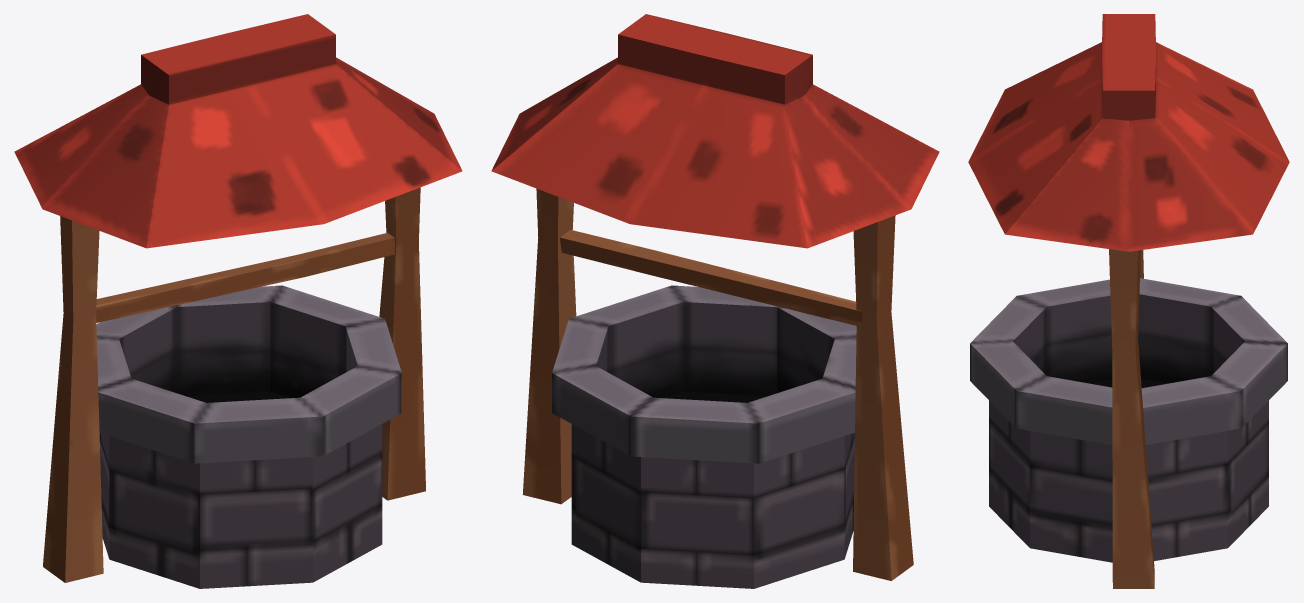
File: PrimeraSlum_Whell.fbx
3 views of the same model, side by side, from view 1: azimuth 30°, elevation 25°; view 2: azimuth 150°, elevation 25°; view 3: azimuth 270°, elevation 25° (orthographic). The views are drawn at different scales.
Parts seen in each view (by area): view 1: PrimeraSlum_Whell; view 2: PrimeraSlum_Whell; view 3: PrimeraSlum_Whell.
Part boxes in pixels (left/top/right/bottom): PrimeraSlum_Whell: left=14, top=14, right=462, bottom=588; PrimeraSlum_Whell: left=491, top=14, right=939, bottom=588; PrimeraSlum_Whell: left=968, top=14, right=1289, bottom=588.
Bounding box in the file's own units: 637 × 751 × 482.
